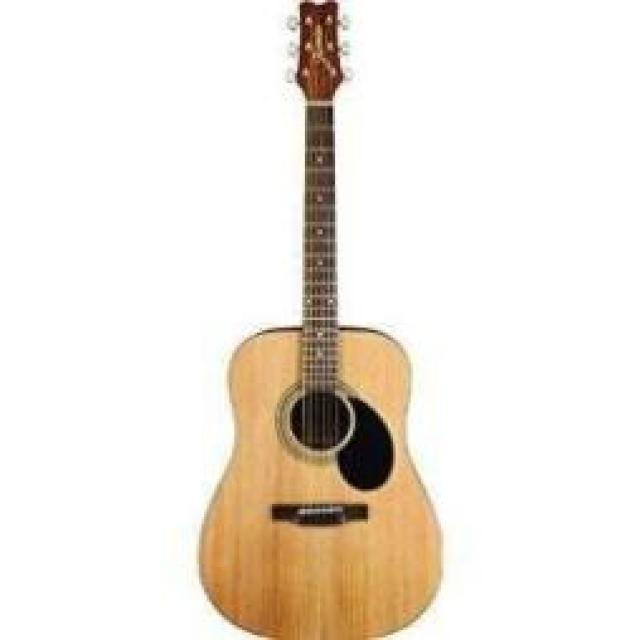acousticguitar: (199, 10, 444, 640)
